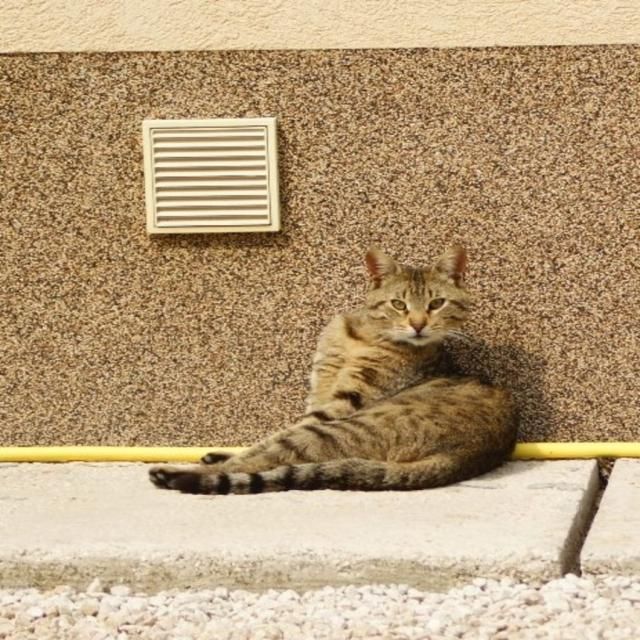Cat: (146, 243, 522, 498)
